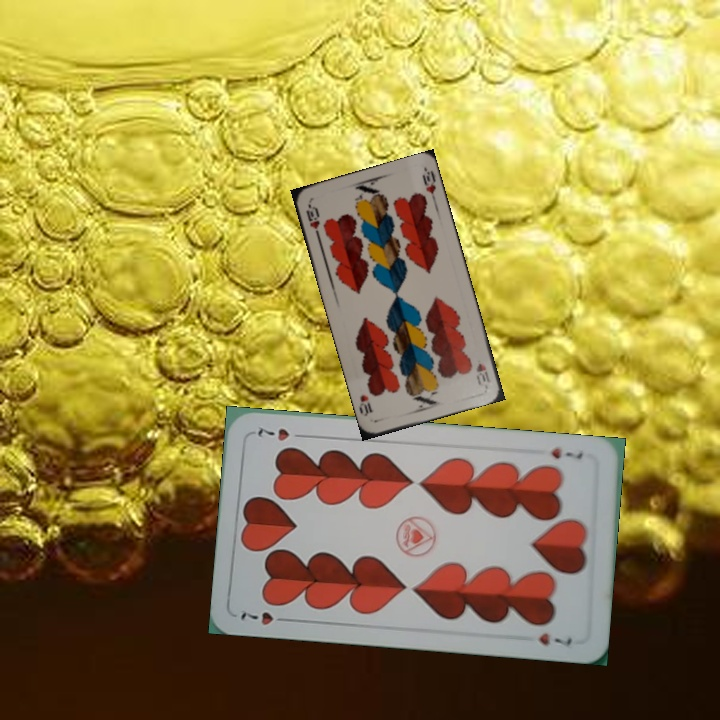H10: (302, 200, 322, 240), (472, 359, 492, 387)
H7: (236, 607, 293, 628), (547, 443, 586, 462)
